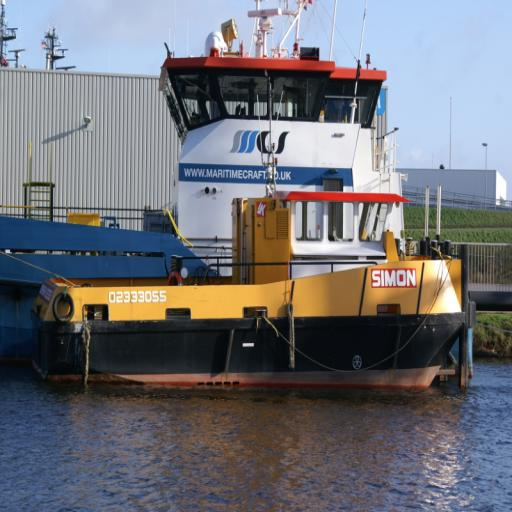tugboat: (28, 177, 479, 415)
